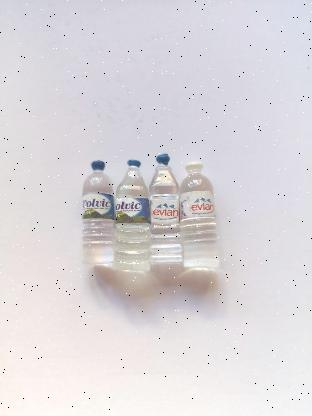Plastic Bottle: (179, 161, 220, 268), (113, 160, 150, 272), (149, 154, 183, 264), (82, 160, 114, 265)
